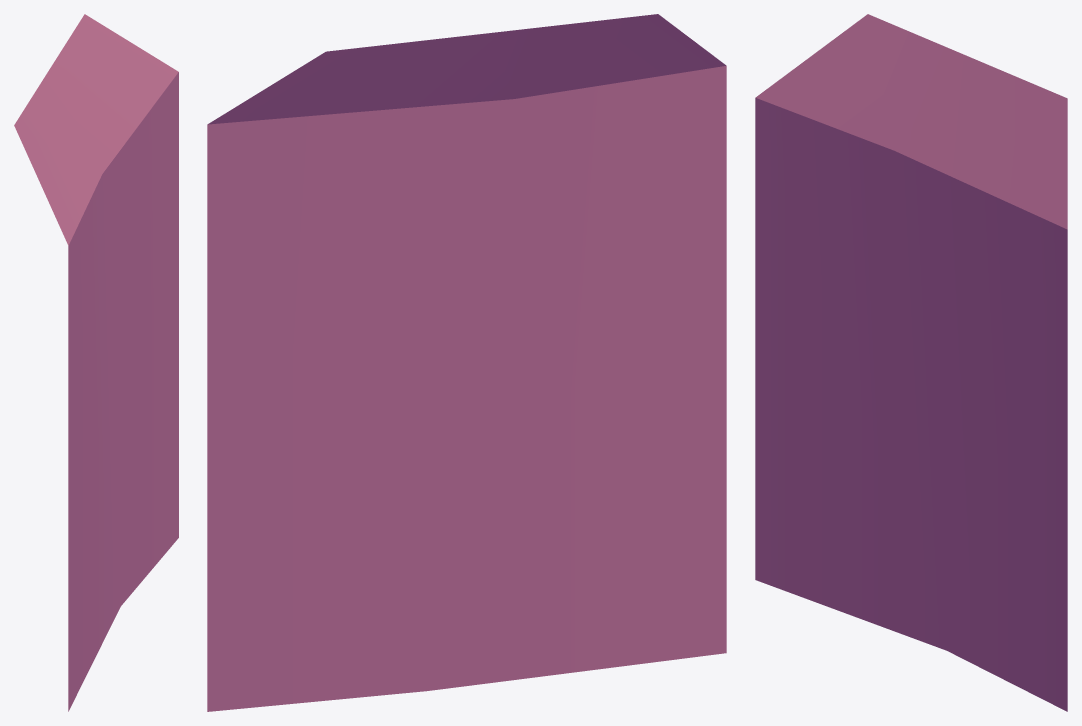
The model's file is Module_Diagonal_Corner_Mesh_01_v01_Wall.fbx.
The picture shows the model from 3 angles, left to right: view 1: azimuth 30°, elevation 25°; view 2: azimuth 150°, elevation 25°; view 3: azimuth 270°, elevation 25°; orthographic projection. The views are drawn at different scales.
Visible parts, largest first — view 1: Module_Diagonal_Corner_Mesh_01_v01_Wall; view 2: Module_Diagonal_Corner_Mesh_01_v01_Wall; view 3: Module_Diagonal_Corner_Mesh_01_v01_Wall.
Part boxes in pixels (x1,y1,x2,y2): Module_Diagonal_Corner_Mesh_01_v01_Wall: [14, 14, 178, 711]; Module_Diagonal_Corner_Mesh_01_v01_Wall: [207, 14, 726, 711]; Module_Diagonal_Corner_Mesh_01_v01_Wall: [755, 14, 1067, 711].
Bounding box in the file's own units: 200 × 400 × 200.
